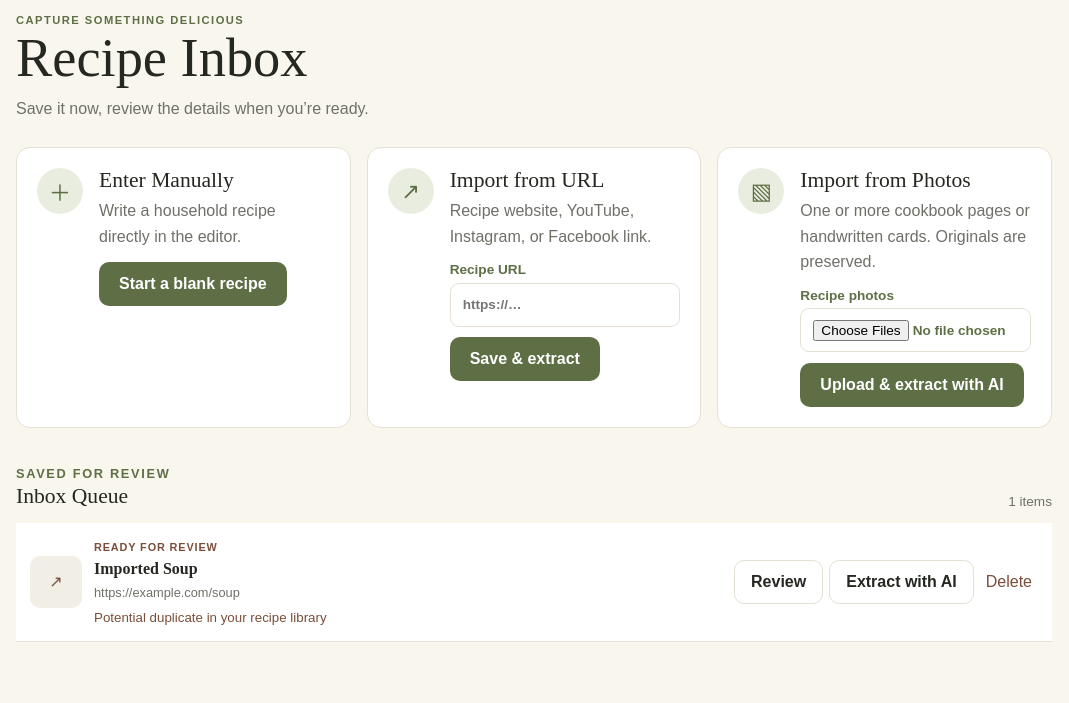
Scenario: Inbox › keeps the item available and shows a friendly extraction failure
Click the button "Extract with AI".
click(901, 582)  # box [829,560,974,604]
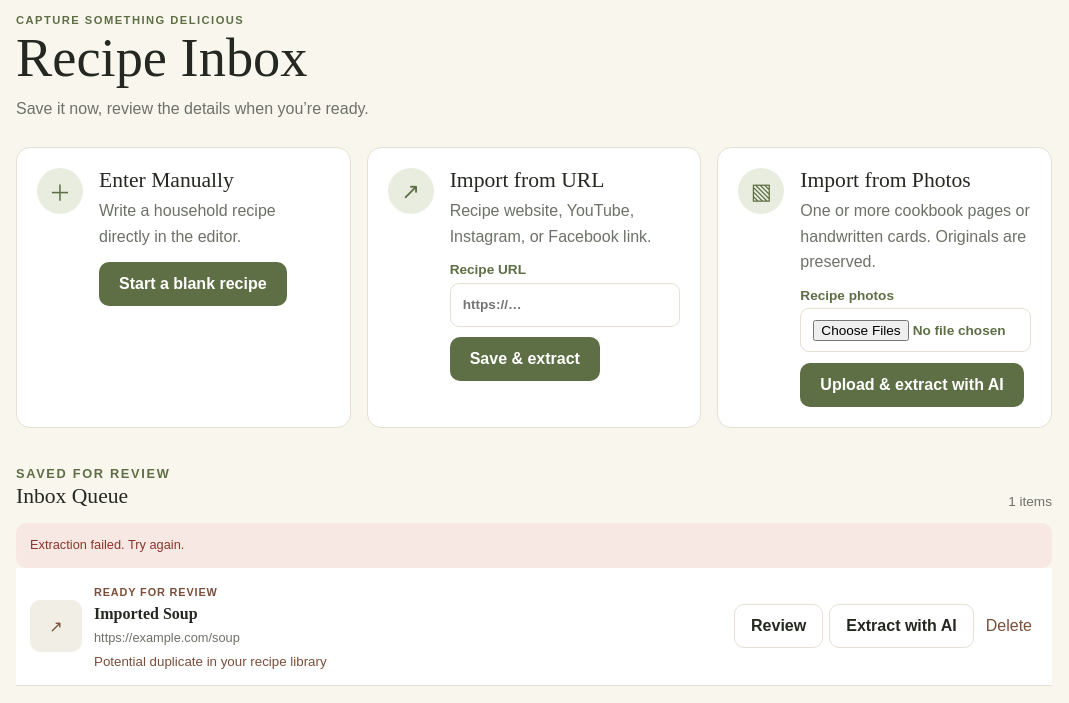
Check: the heading "Imported Soup" is shown, box [94,605,198,622]
Check: the message reads "Extraction failed. Try again.", box [30,537,184,552]
